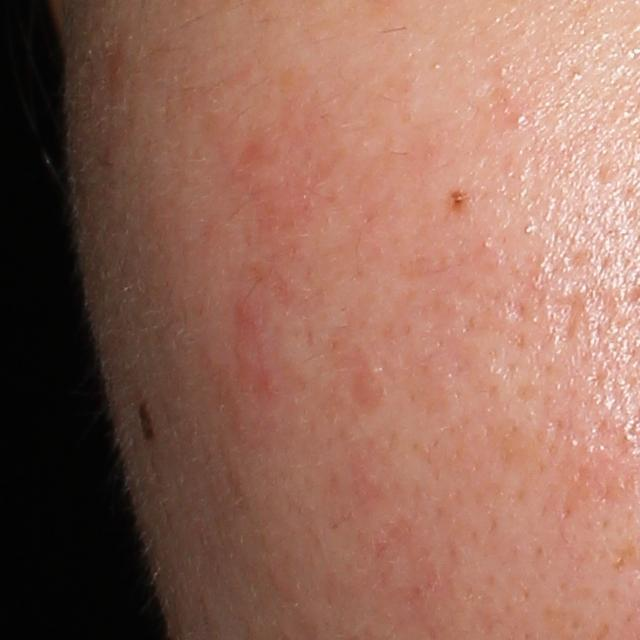atrophic_scar: (539, 291, 589, 347)
comedo: (504, 111, 530, 128)
nevus: (137, 398, 161, 439), (447, 187, 471, 214)
